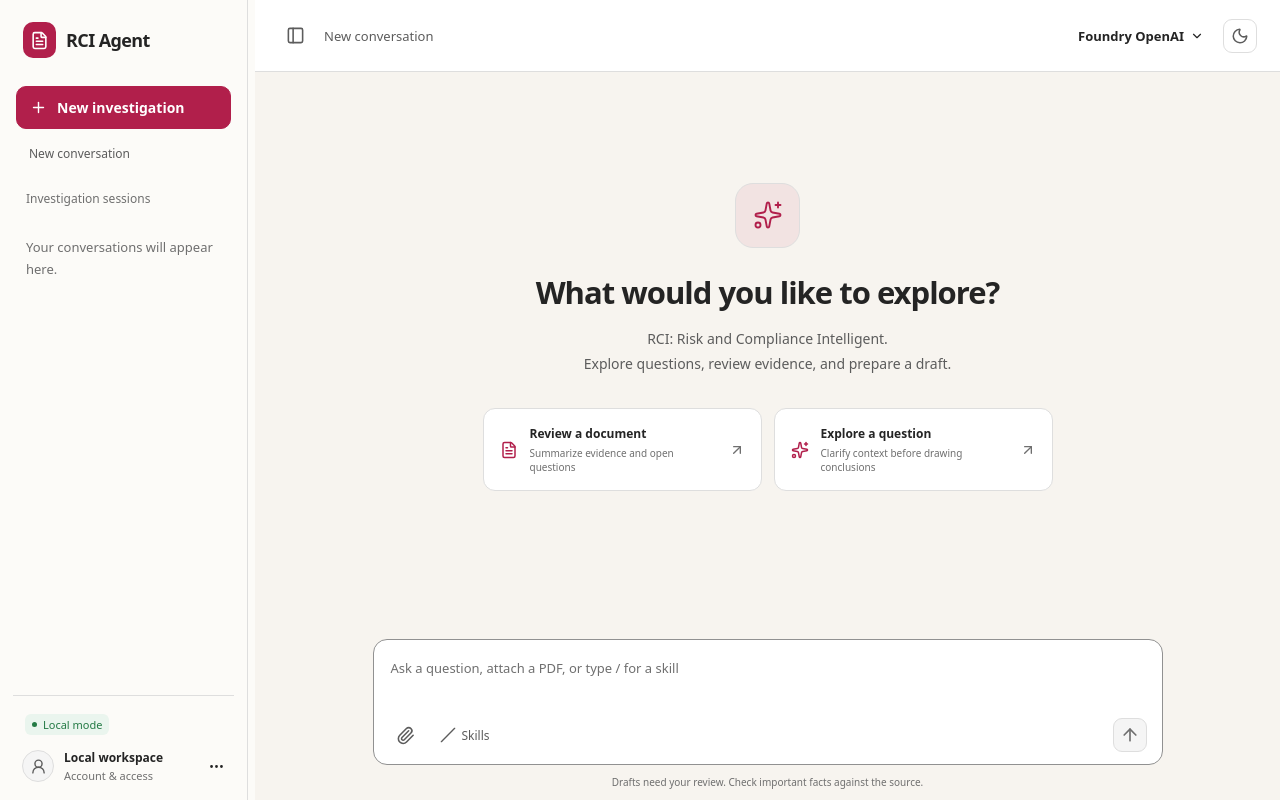
Test: offers skills in the composer and clearly disables future account actions
This screenshot has width=1280, height=800.
Click the button with aria-label "Choose a skill" at (464, 735), box x1=432 y1=720 x2=498 y2=750
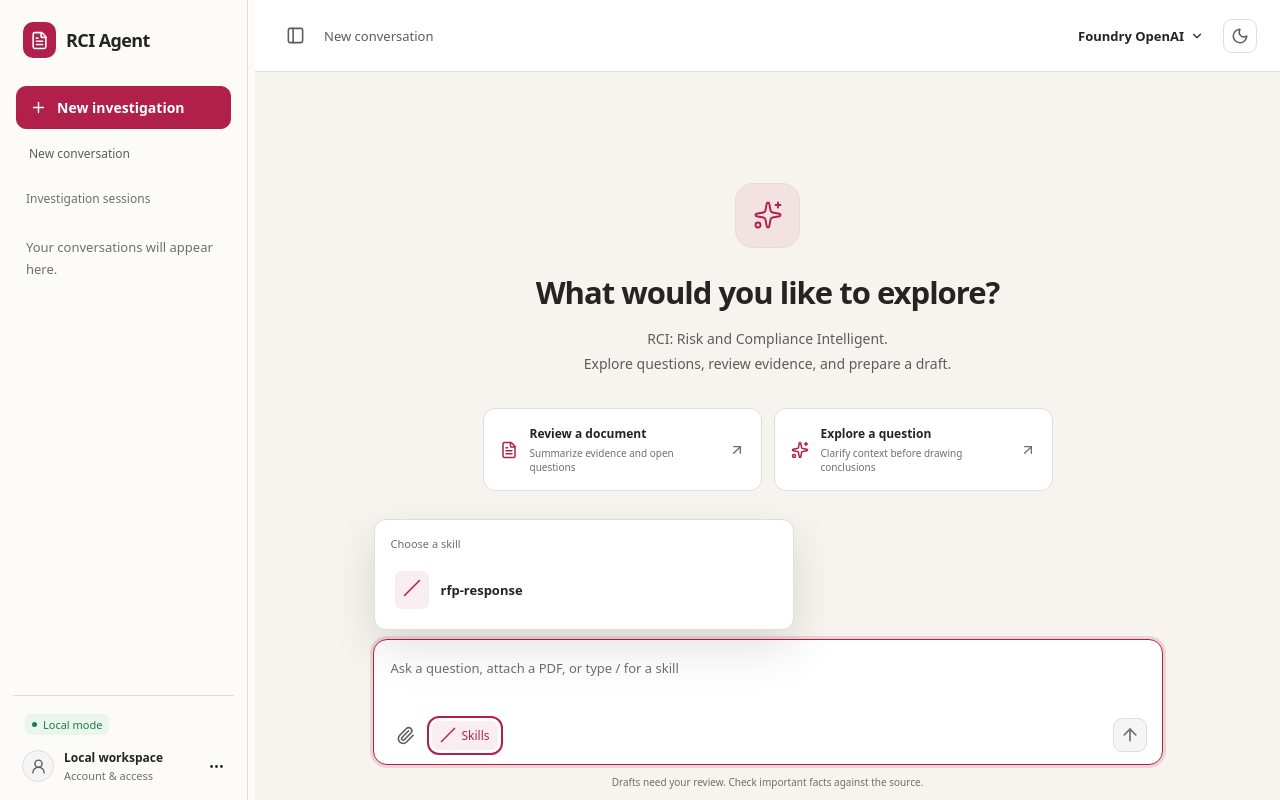
Click the option "rfp-response" at (412, 590), box x1=382 y1=559 x2=784 y2=621
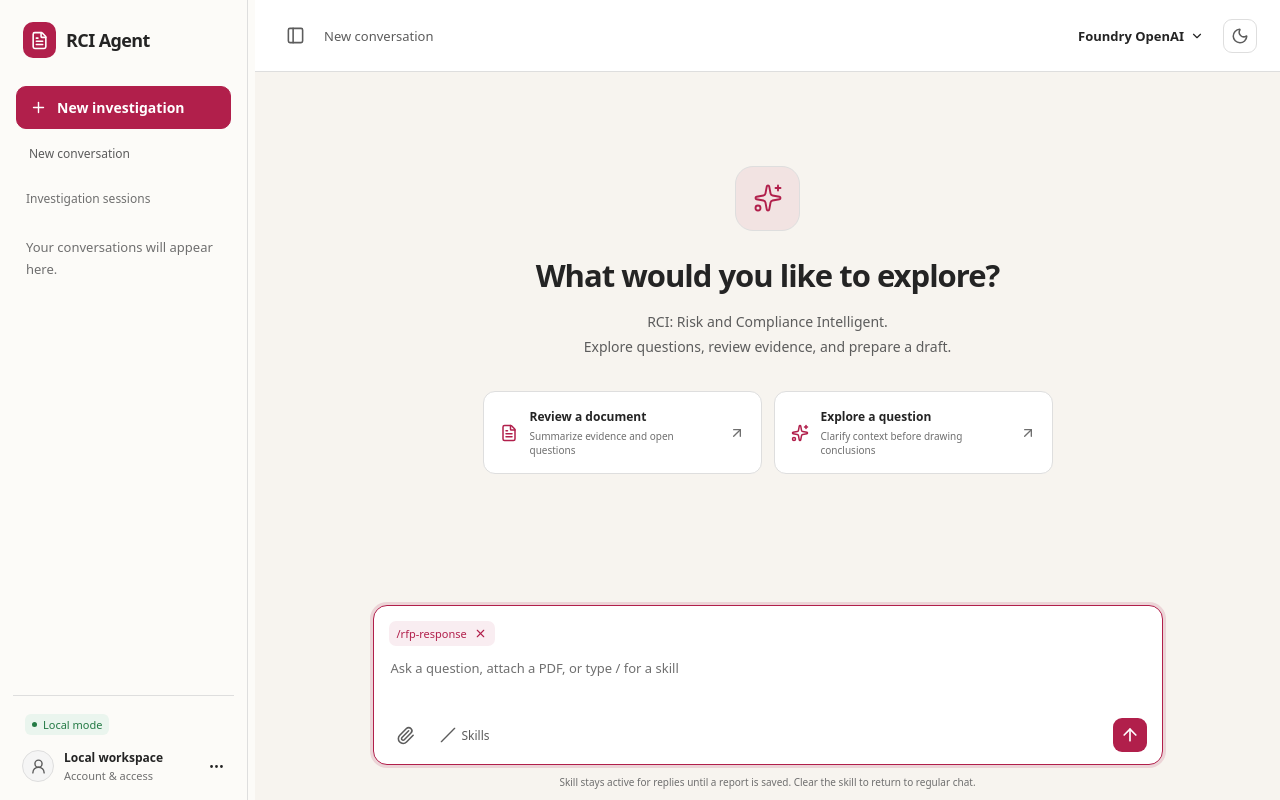
Check: the text "/rfp-response" is shown, box x1=388 y1=621 x2=495 y2=646
Click the button "Local workspace Account & access" at (124, 762), box x1=13 y1=735 x2=234 y2=788
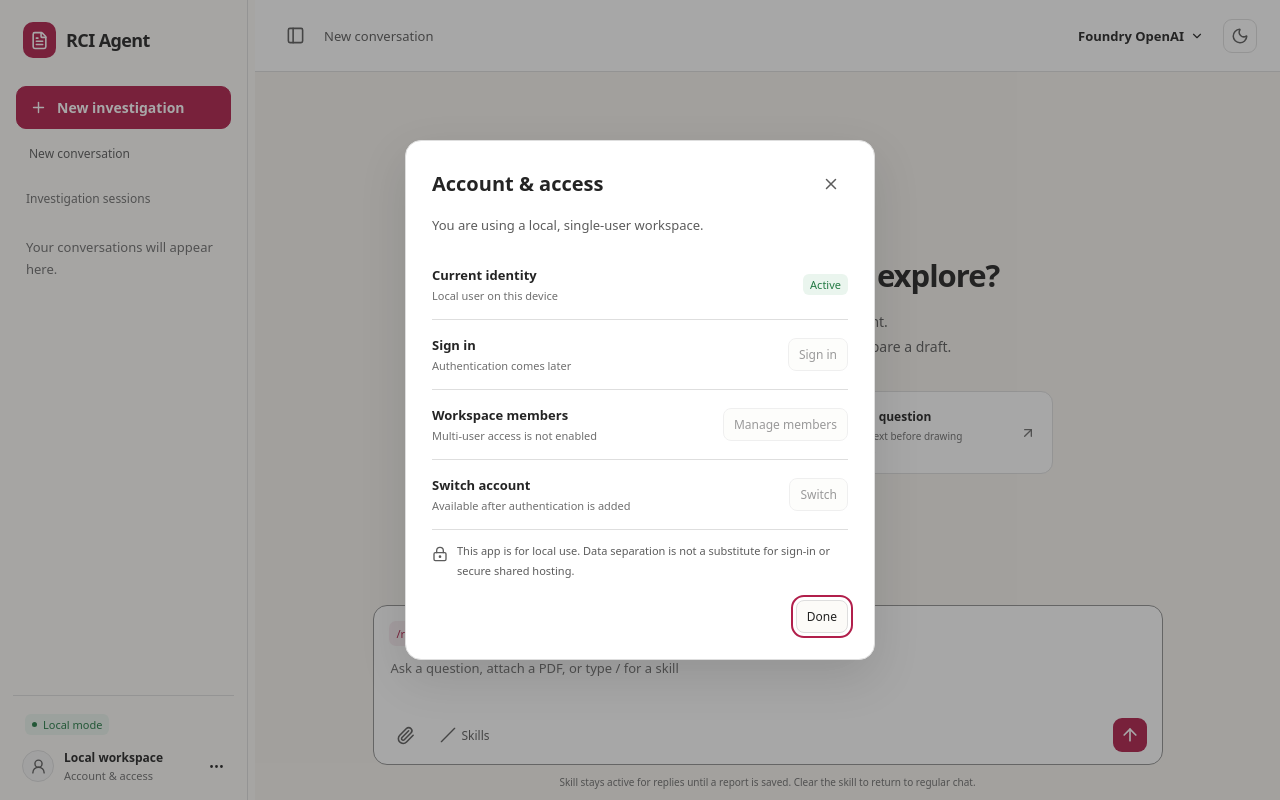
Check: the button "Sign in" is disabled, box x1=788 y1=338 x2=848 y2=371
Check: the button "Manage members" is disabled, box x1=723 y1=408 x2=848 y2=441
